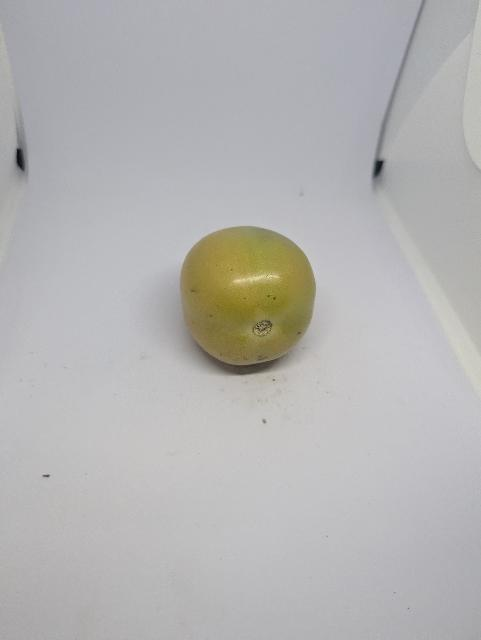breaker: (179, 225, 319, 370)
